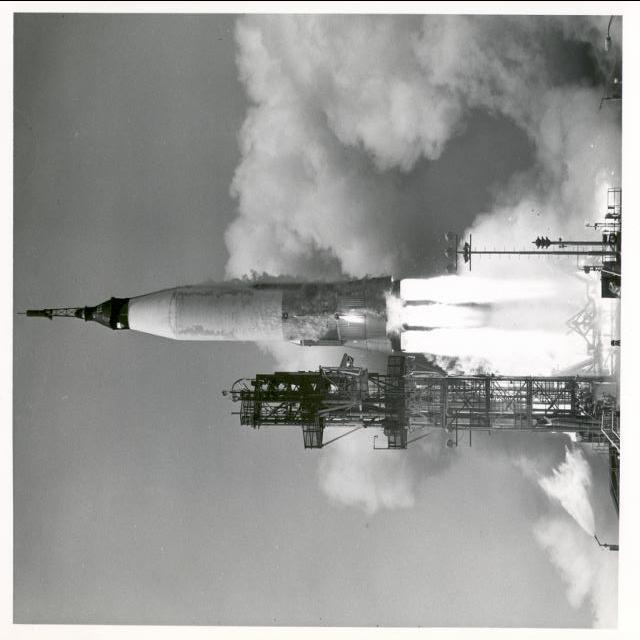missile: (86, 268, 405, 352)
